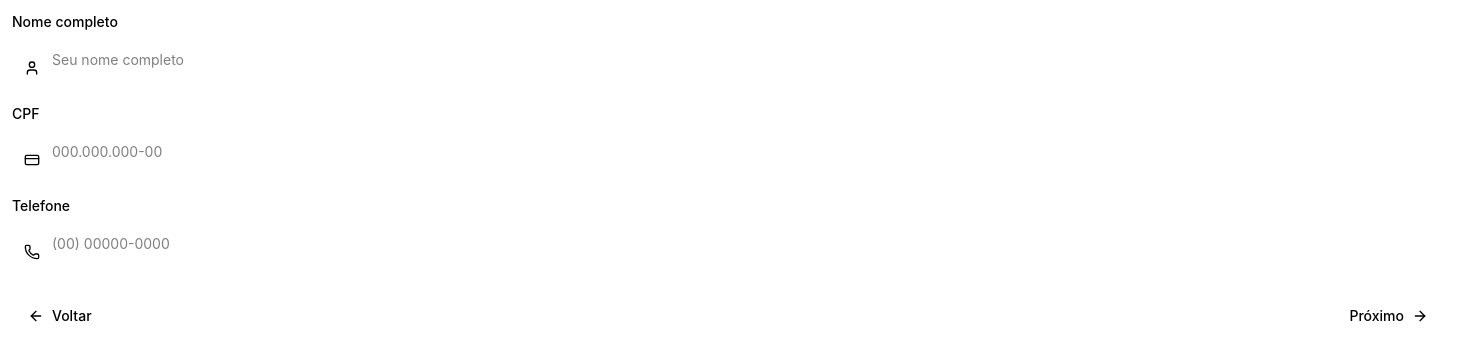
Scenario: StepPersonalData › CPF masking › masks partial CPF input correctly
The width and height of the screenshot is (1464, 339).
Type "529" into the field labelled "CPF" at (732, 152), box [12, 132, 1452, 172]
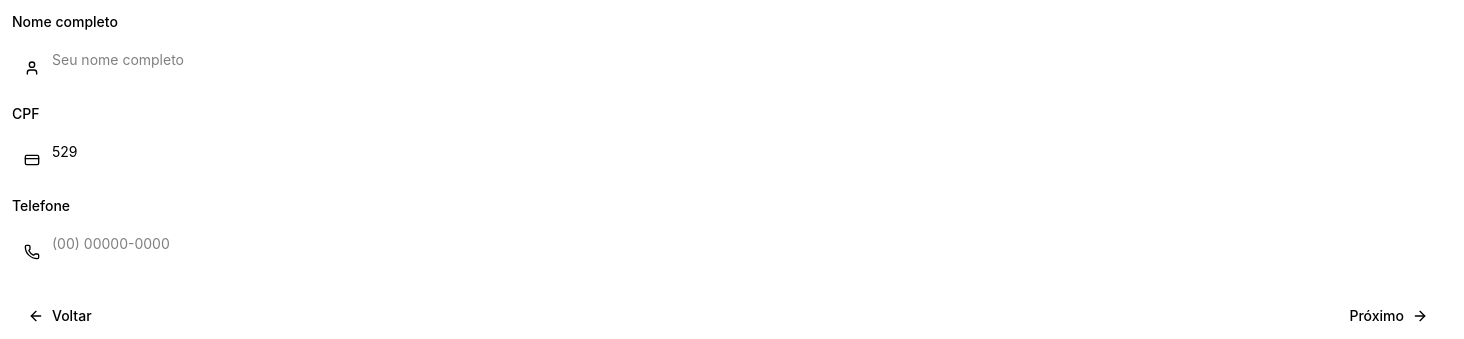
Type "9" into the field labelled "CPF" at (732, 152), box [12, 132, 1452, 172]
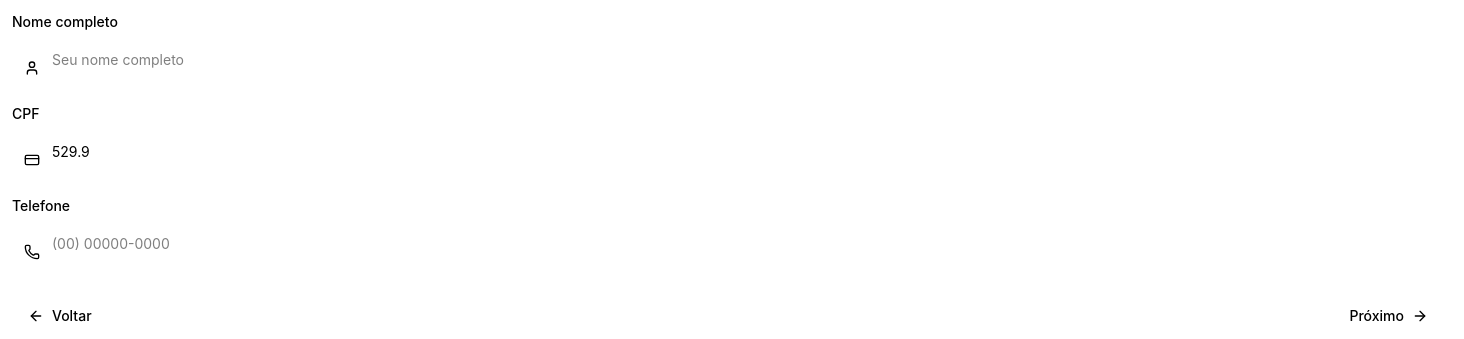
Check: the field labelled "CPF" holds "529.9", box [12, 132, 1452, 172]
